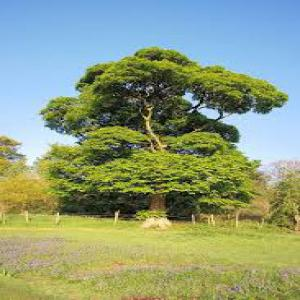Tree: (33, 43, 287, 226)
